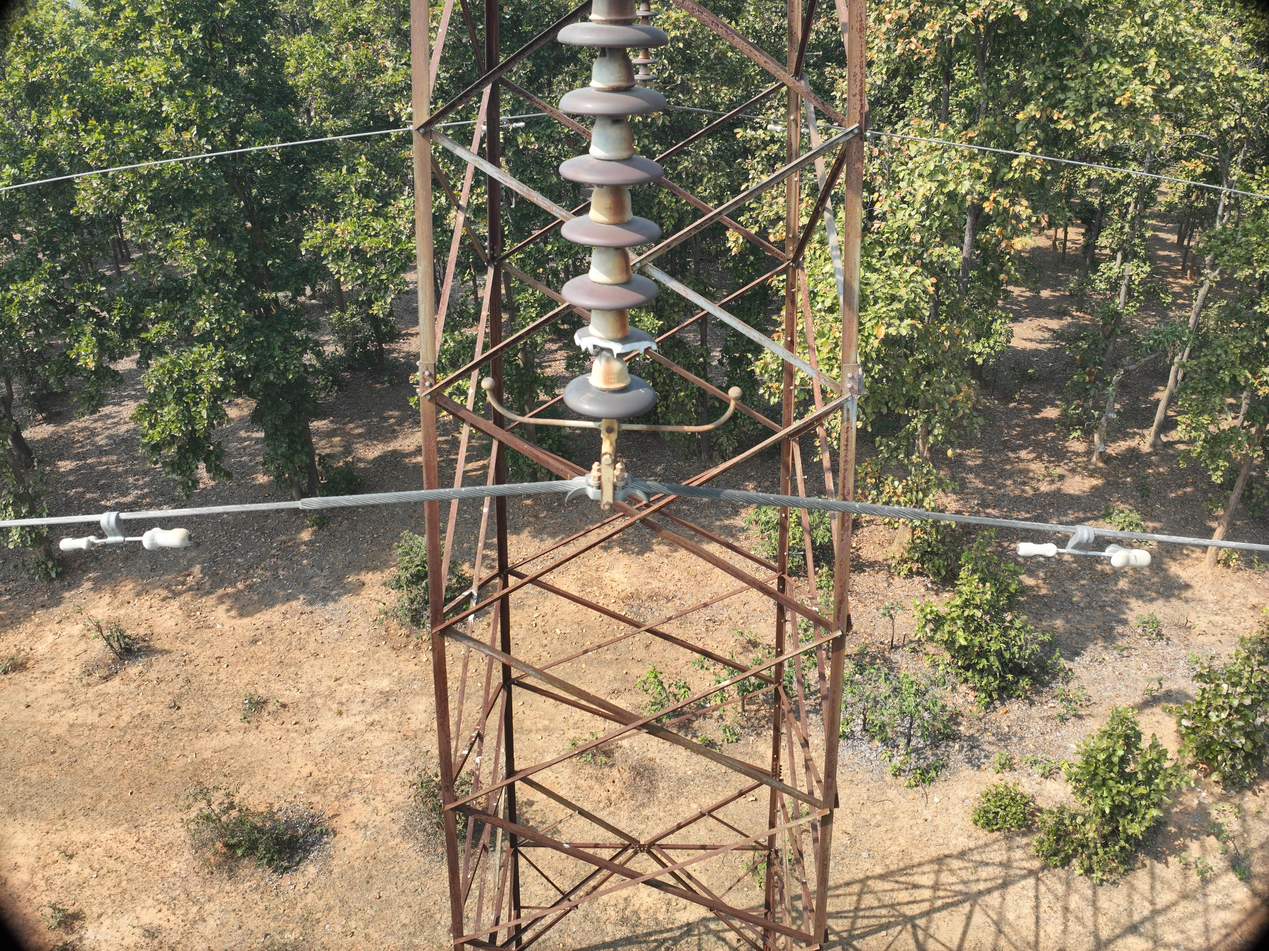broken_insulator: (562, 316, 668, 361)
